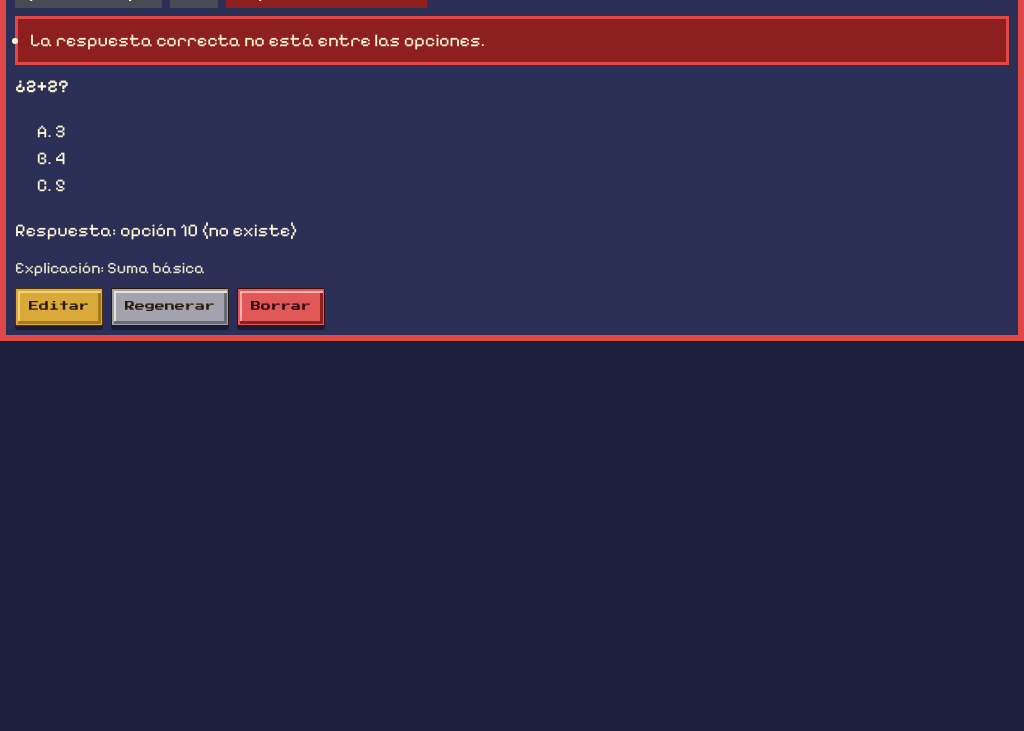
Test: EditorPregunta › no guarda si falta el enunciado
Click the button "Editar". click: (59, 306)
box: [15,288,103,326]
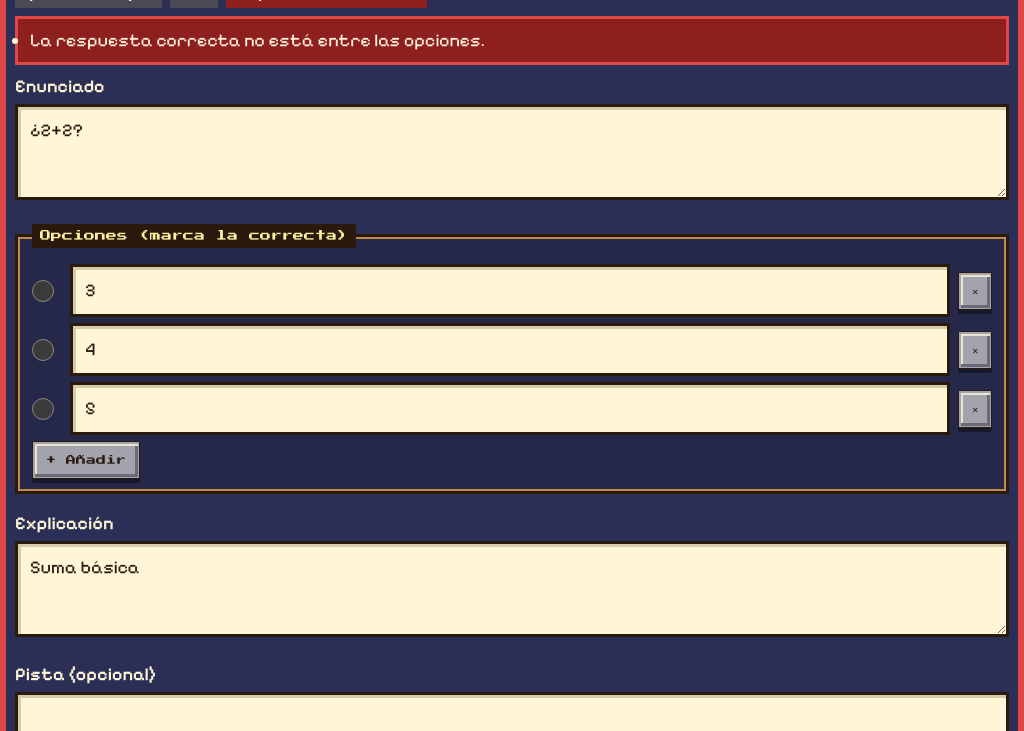
Clear the text box labelled "Enunciado". click: (512, 152)
box: [15,104,1009,200]
(page scrolled)
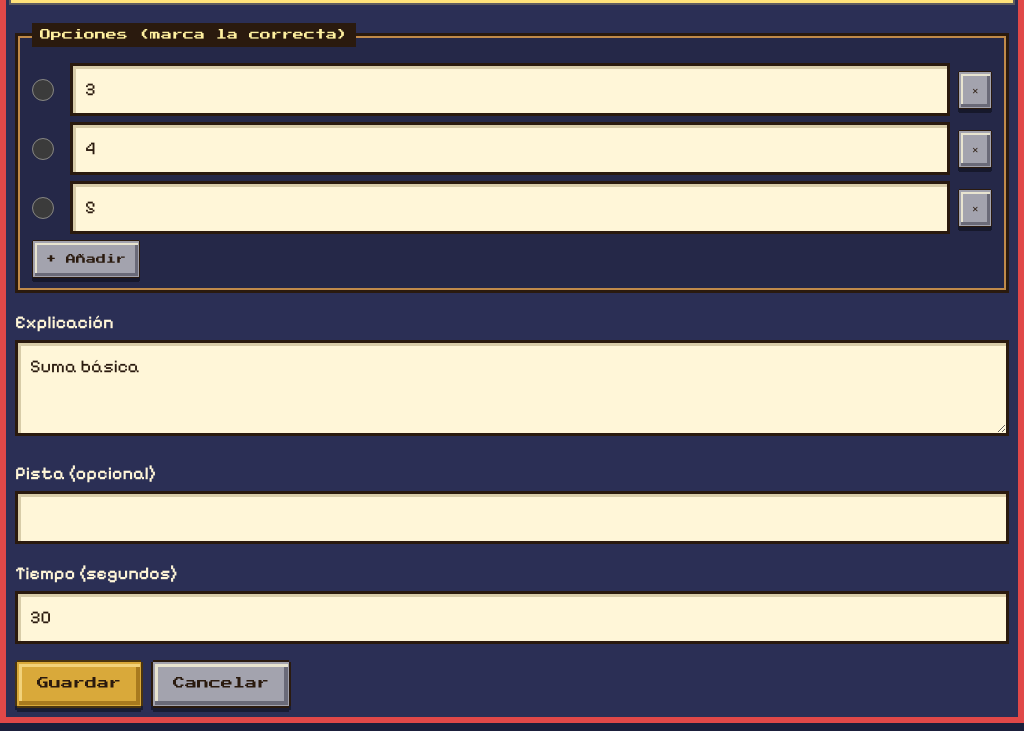
Click the button "Guardar". click: (79, 684)
box: [15,660,143,708]
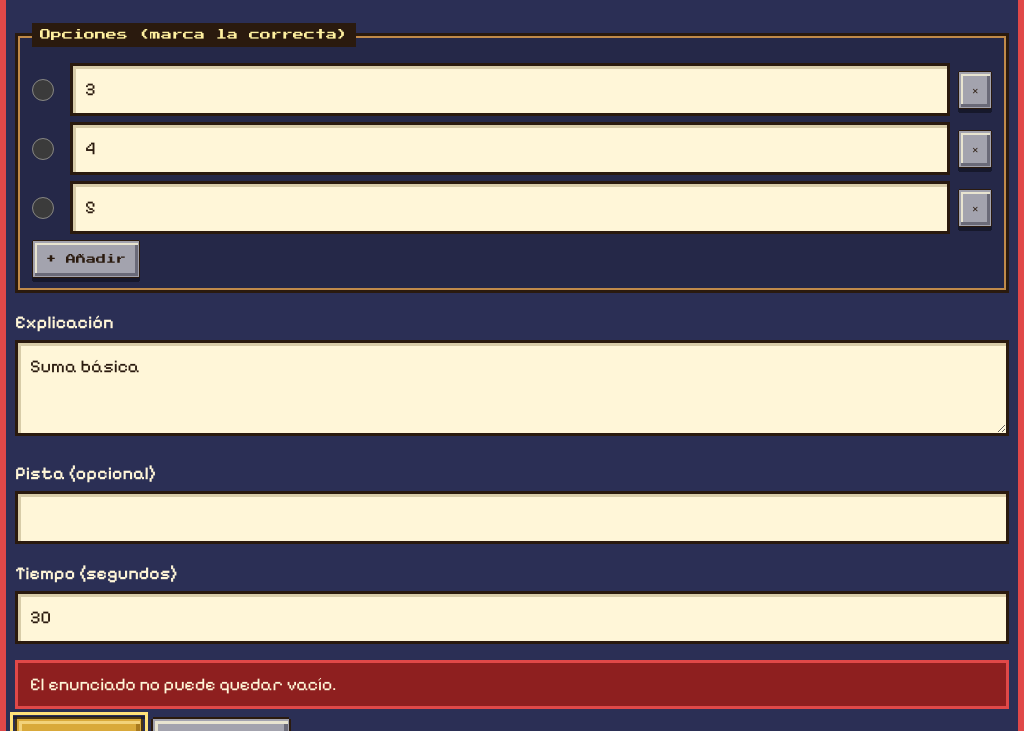
Now the message reads "El enunciado no puede quedar vacío.", box [30,673,336,695]
